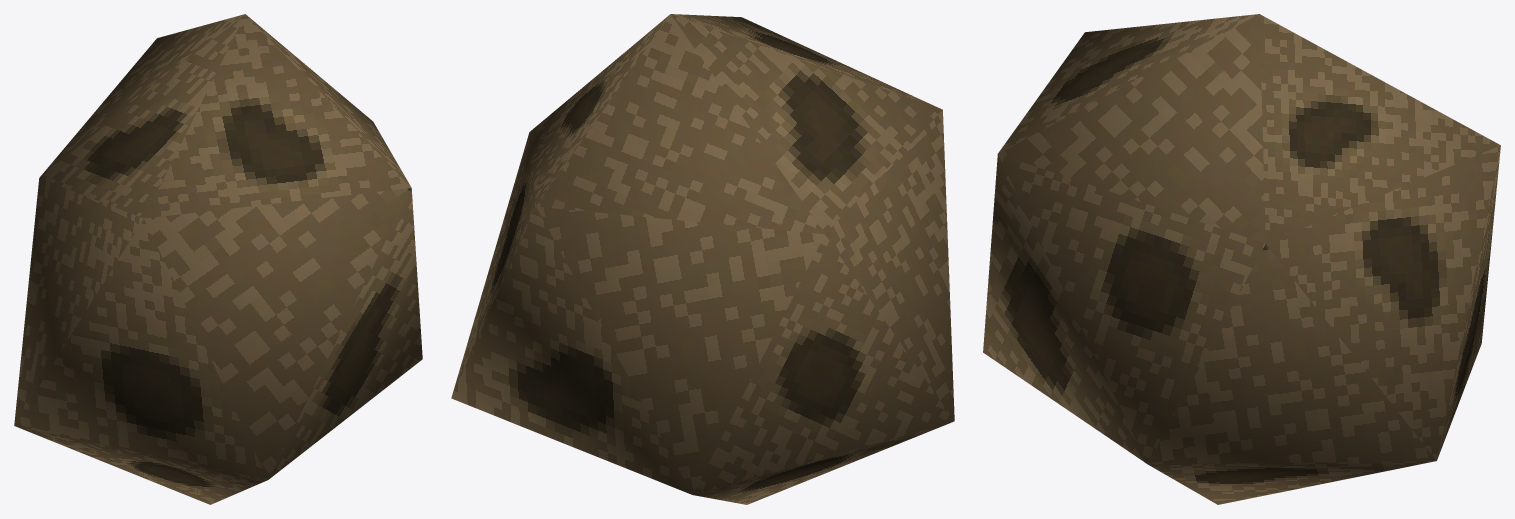
File: Krumme.fbx
The picture shows the model from 3 angles, left to right: view 1: azimuth 30°, elevation 25°; view 2: azimuth 150°, elevation 25°; view 3: azimuth 270°, elevation 25°; orthographic projection. The views are drawn at different scales.
Visible parts, largest first — view 1: Icosphere; view 2: Icosphere; view 3: Icosphere.
Boxes of the visible parts, bbox=[...] form: Icosphere: bbox=[14, 14, 422, 504]; Icosphere: bbox=[451, 14, 954, 504]; Icosphere: bbox=[983, 14, 1500, 504].
Size of the model in its own units: 1.26 by 1.47 by 1.33.
